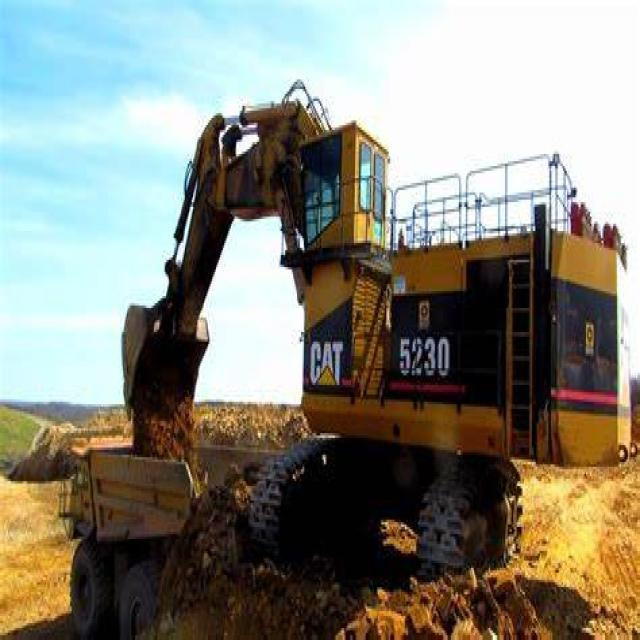dump_truck: (48, 430, 264, 638)
excavator: (107, 84, 636, 604)
